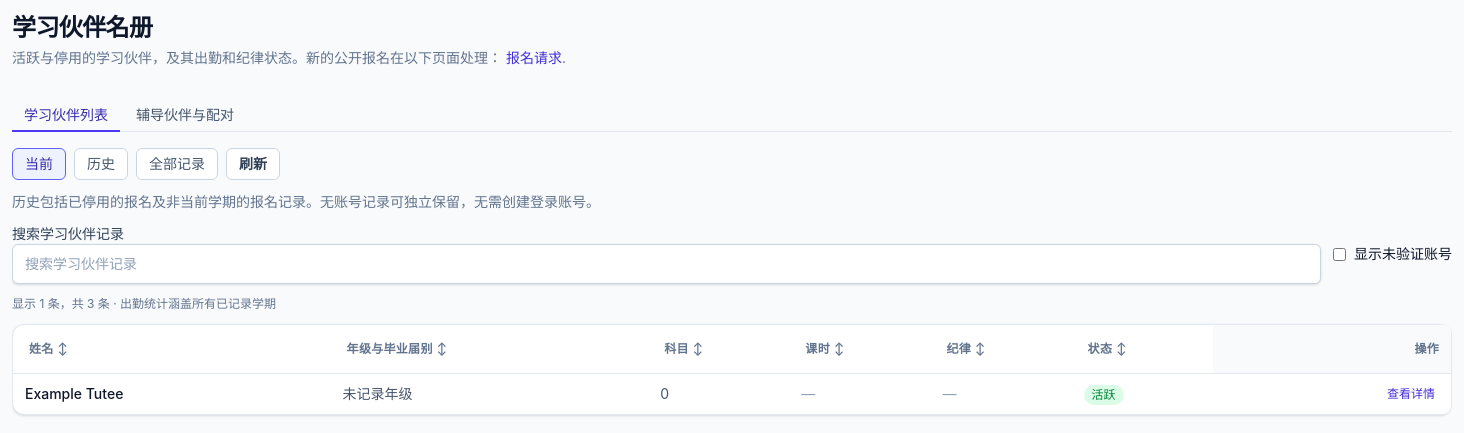
keeps unconfirmed tutor-view schedule placeholders private in Chinese
Click the tab "辅导伙伴与配对": (185, 116) x1=124 y1=100 x2=246 y2=132
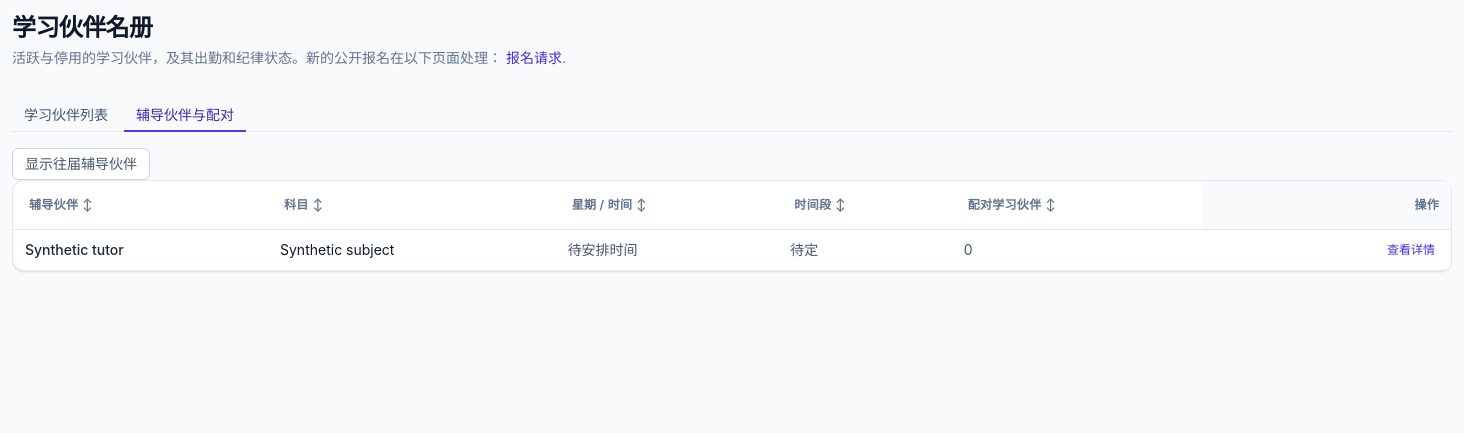
Expected: the cell "待安排时间" is shown, x1=556 y1=230 x2=778 y2=270
